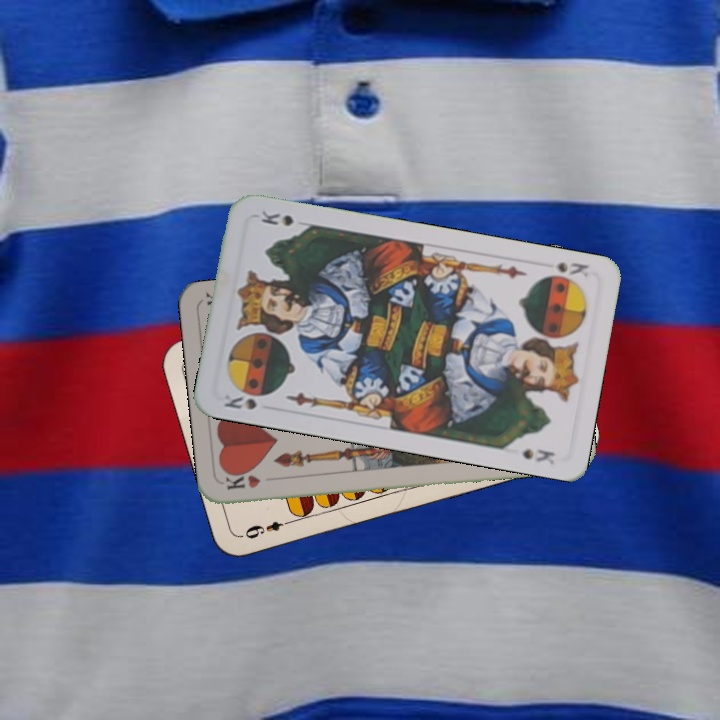E9: (238, 515, 296, 542)
HK: (221, 471, 263, 492)
SK: (550, 257, 592, 280), (220, 390, 260, 413)
